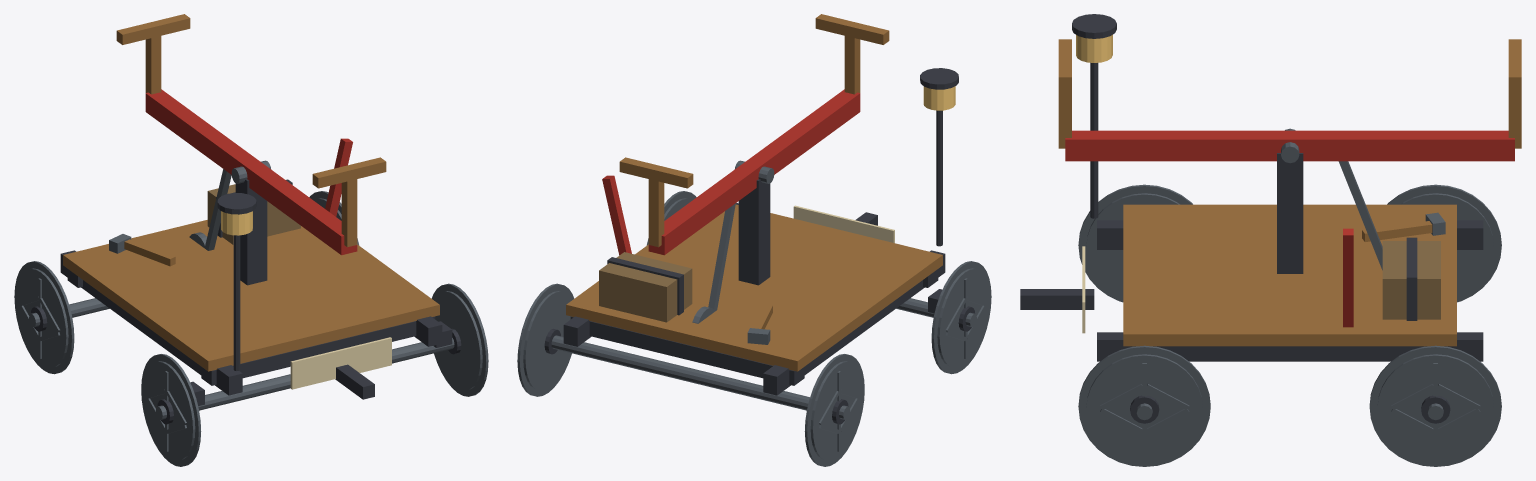
File: prop_rail_handcar.glb
3 renders of one model, left to right at view 1: azimuth 30°, elevation 25°; view 2: azimuth 150°, elevation 25°; view 3: azimuth 270°, elevation 25°, orthographic. The views are drawn at different scales.
Parts seen in each view (by area): view 1: deck_plank_1, walking_beam, deck_plank_2, deck_plank_3, deck_plank_4, deck_plank_5, wheel_front_left, wheel_rear_left, deck_plank_6, wheel_front_right, name_plate, cross_bolster_front (+21 smaller); view 2: walking_beam, deck_plank_7, toolbox, deck_plank_4, deck_plank_1, deck_plank_3, deck_plank_2, axle_rear, deck_plank_5, wheel_rear_left, wheel_front_left, wheel_rear_right (+20 smaller); view 3: walking_beam, wheel_front_right, wheel_rear_right, deck_plank_3, deck_plank_2, deck_plank_1, deck_plank_5, deck_plank_4, frame_beam_right, deck_plank_6, toolbox, deck_plank_7 (+20 smaller).
Boxes of the visible parts, x1,y1,x2,y2 form: deck_plank_1: (187, 289, 439, 371); walking_beam: (145, 89, 357, 255); deck_plank_2: (167, 274, 418, 356); deck_plank_3: (146, 259, 397, 340); deck_plank_4: (125, 244, 377, 325); deck_plank_5: (104, 234, 332, 310); wheel_front_left: (142, 361, 195, 460); wheel_rear_left: (15, 268, 68, 367); deck_plank_6: (84, 226, 312, 295); wheel_front_right: (434, 291, 482, 390); name_plate: (290, 337, 391, 389); cross_bolster_front: (201, 316, 435, 385); walking_beam: (648, 89, 860, 255); deck_plank_7: (566, 289, 818, 371); toolbox: (599, 252, 692, 322); deck_plank_4: (635, 244, 880, 325); deck_plank_1: (714, 204, 942, 280); deck_plank_3: (673, 234, 901, 310); deck_plank_2: (693, 219, 921, 295); axle_rear: (551, 335, 850, 419); deck_plank_5: (692, 275, 859, 340); wheel_rear_left: (810, 361, 863, 460); wheel_front_left: (937, 268, 990, 367); wheel_rear_right: (523, 291, 571, 390); walking_beam: (1065, 130, 1514, 161); wheel_front_right: (1086, 354, 1202, 460); wheel_rear_right: (1377, 354, 1493, 460); deck_plank_3: (1218, 204, 1266, 346); deck_plank_2: (1171, 204, 1218, 346); deck_plank_1: (1123, 204, 1170, 346); deck_plank_5: (1314, 204, 1361, 346); deck_plank_4: (1266, 204, 1313, 346); frame_beam_right: (1097, 332, 1483, 361); deck_plank_6: (1361, 204, 1409, 346); toolbox: (1382, 241, 1440, 319); deck_plank_7: (1409, 204, 1456, 346).
Bounding box in the file's own units: 1.56 × 1.37 × 1.9.
